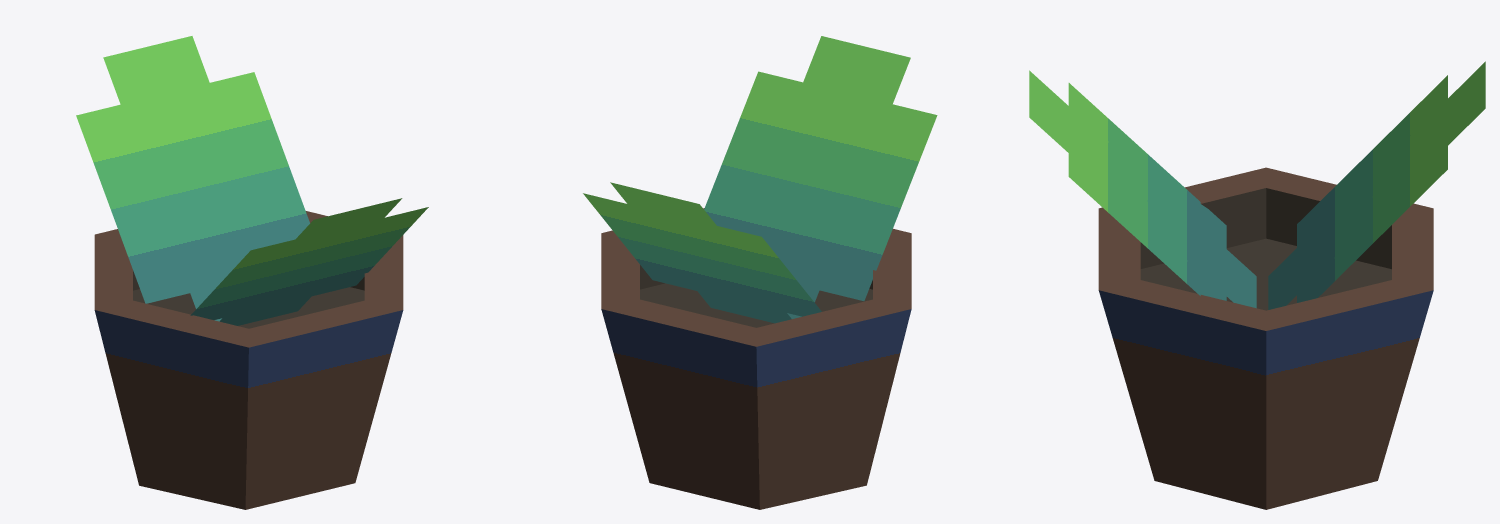
Rendered from Potted Flower.gltf.
3 views of the same model, side by side, from view 1: azimuth 30°, elevation 25°; view 2: azimuth 150°, elevation 25°; view 3: azimuth 270°, elevation 25° (orthographic). The views are drawn at different scales.
Visible parts, largest first — view 1: pot, leaf (×2); view 2: pot, leaf (×2); view 3: pot, leaf (×2).
Boxes of the visible parts, x1,y1,x2,y2 form: pot: (94, 211, 403, 509); leaf (×2): (76, 36, 428, 325); pot: (601, 208, 911, 509); leaf (×2): (583, 36, 937, 323); pot: (1098, 167, 1433, 509); leaf (×2): (1029, 61, 1485, 309).
Bounding box in the file's own units: 0.433 × 0.4531 × 0.5108.
Materials: 2 (2 with a texture image).
